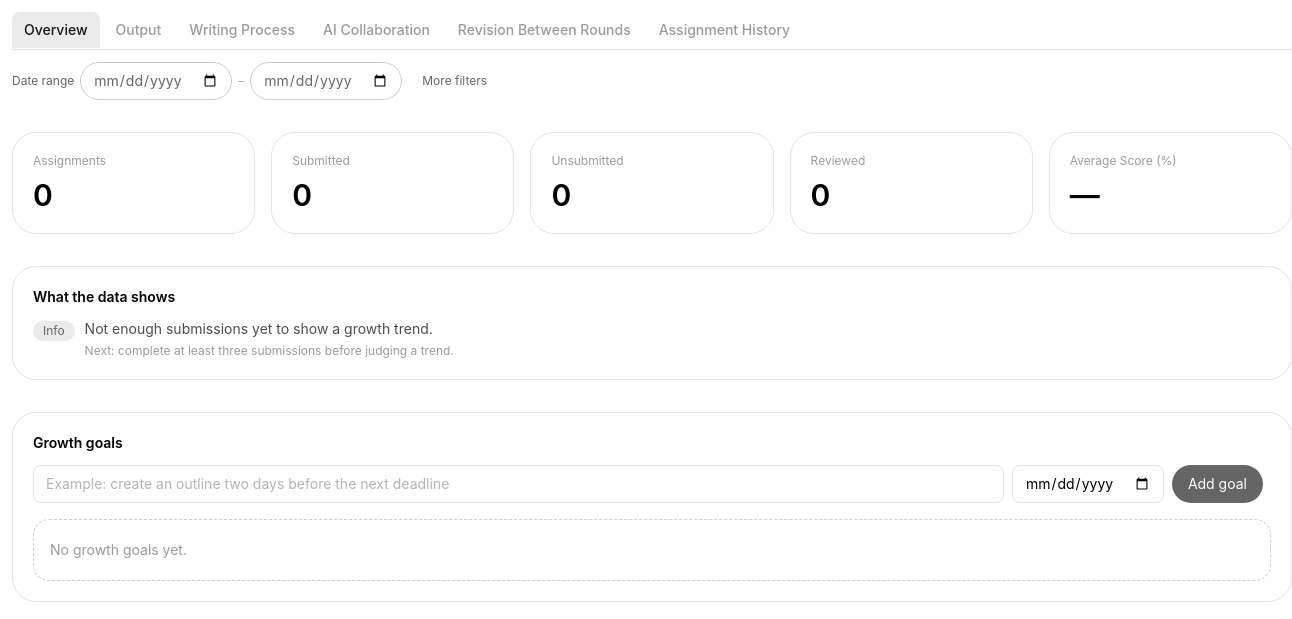
StudentGrowthProfile › student round revision section › keeps existing resubmissions accessible when returns are disabled
The width and height of the screenshot is (1292, 619).
Click the button "Revision Between Rounds".
click(544, 30)  # box [446,12,643,48]
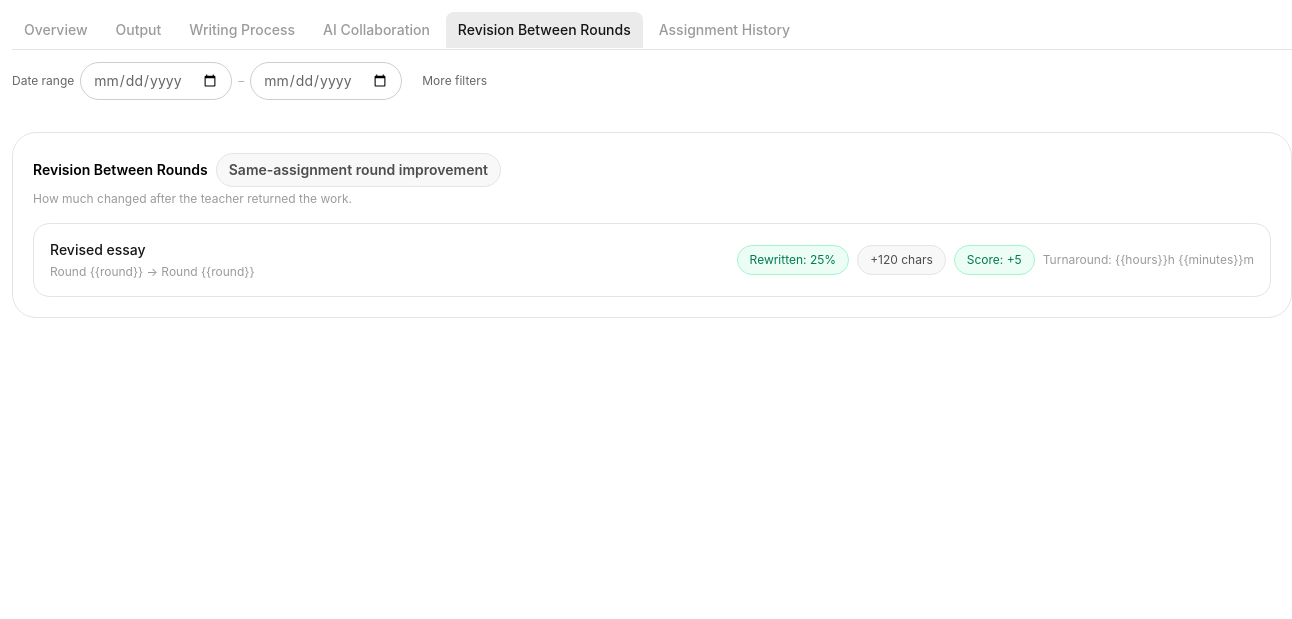
Now the text "Revised essay" is shown, box [50,241,146,258]
